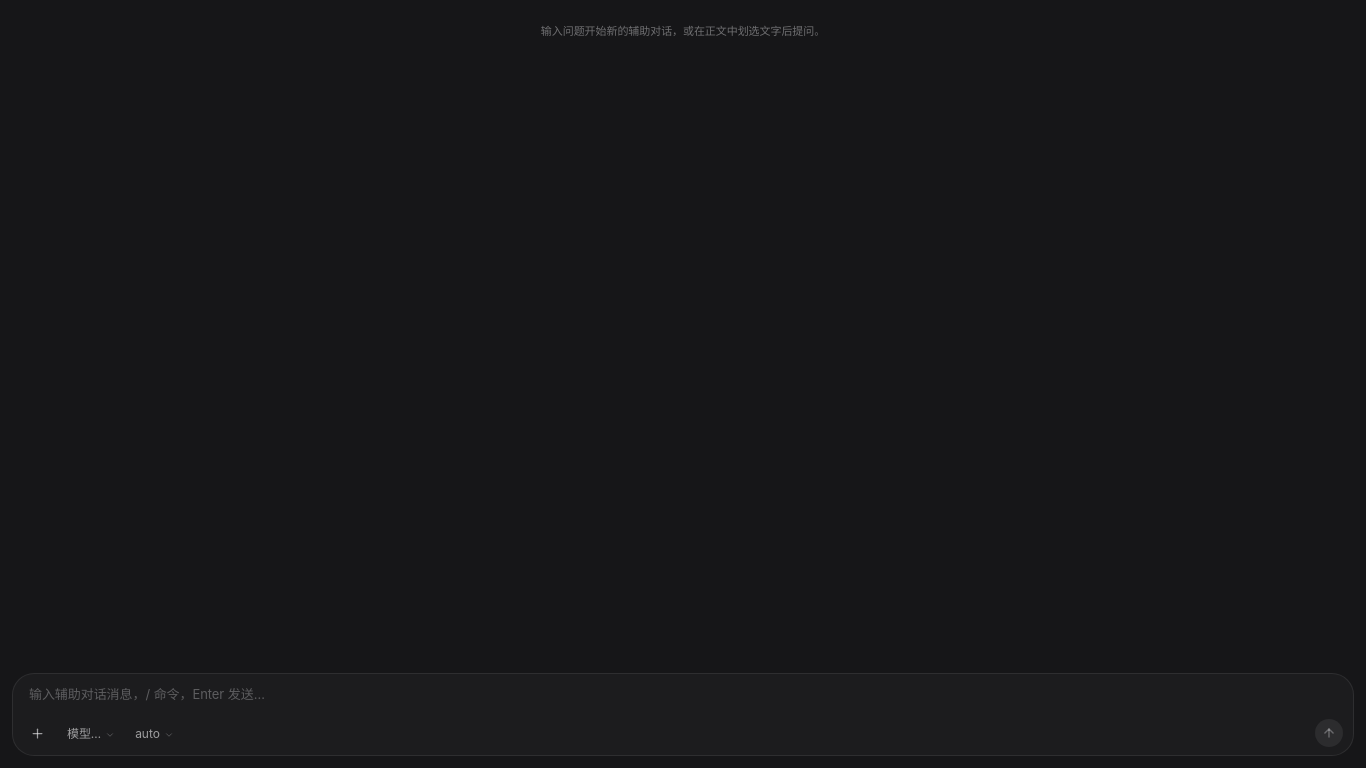
it: SideChatPanel blank new chat › the + menu offers only what a side chat can send: images and sketch
What coordinates should you click on to do the following:
click the button named "添加"
I would click on:
 (37, 733)
Its box is top-left (23, 719), bottom-right (51, 747).
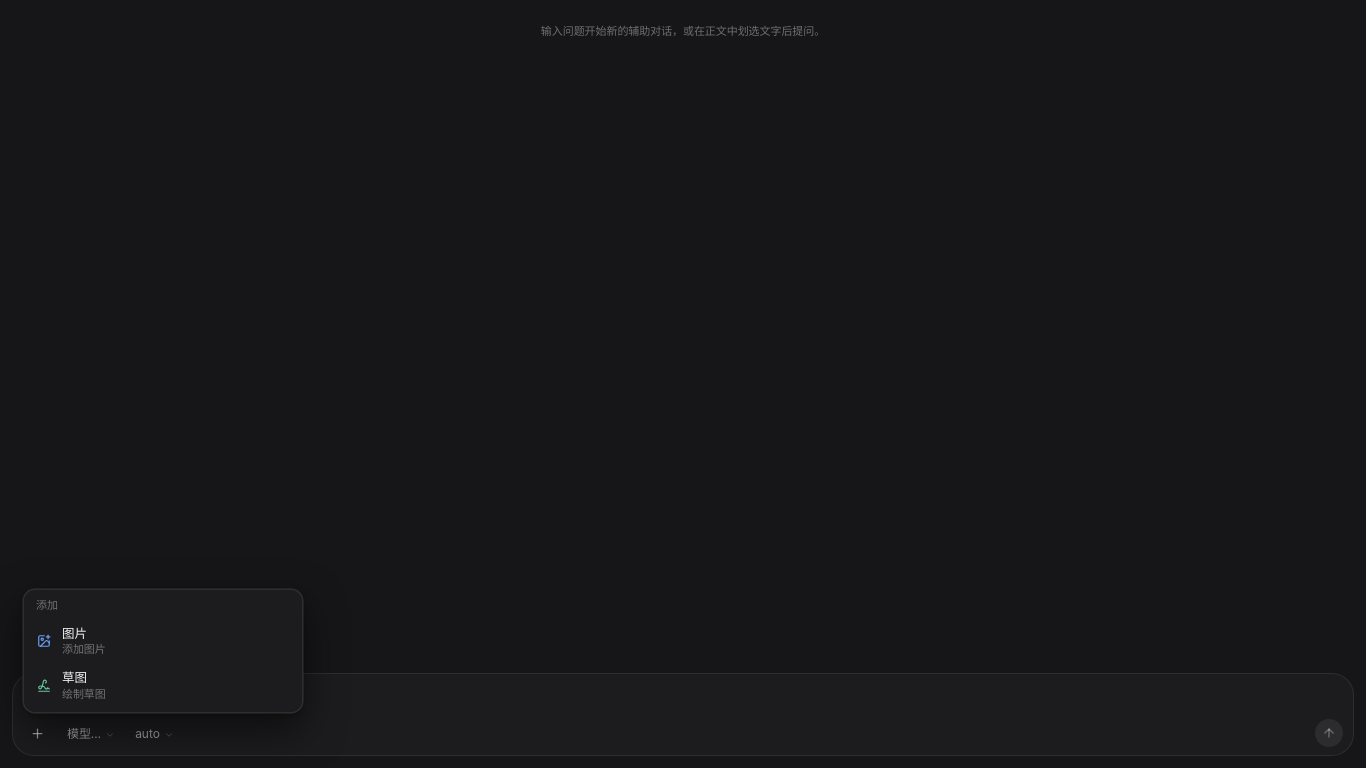
Now the text "图片" is shown, box top-left (62, 626), bottom-right (87, 641)
Now the text "草图" is shown, box top-left (62, 670), bottom-right (87, 686)
